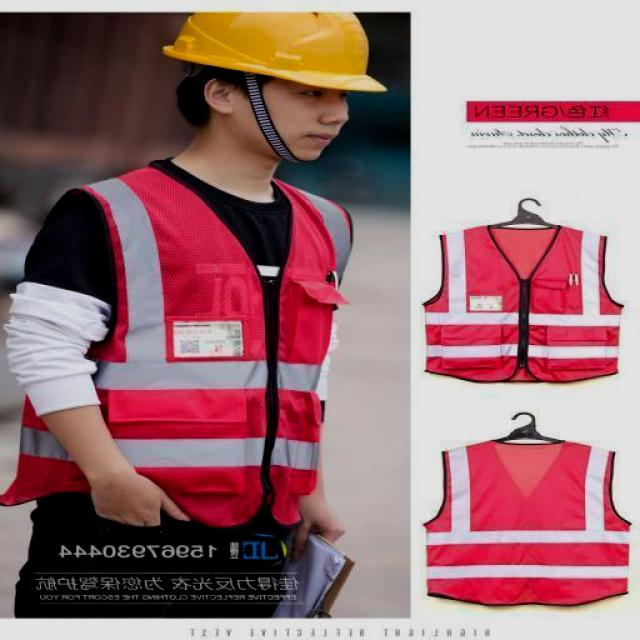face_nomask: (278, 70, 363, 160)
hand_noglove: (80, 464, 195, 536)
head_helmet: (168, 12, 387, 90)
person: (1, 12, 410, 619)
vest: (1, 166, 352, 524)
